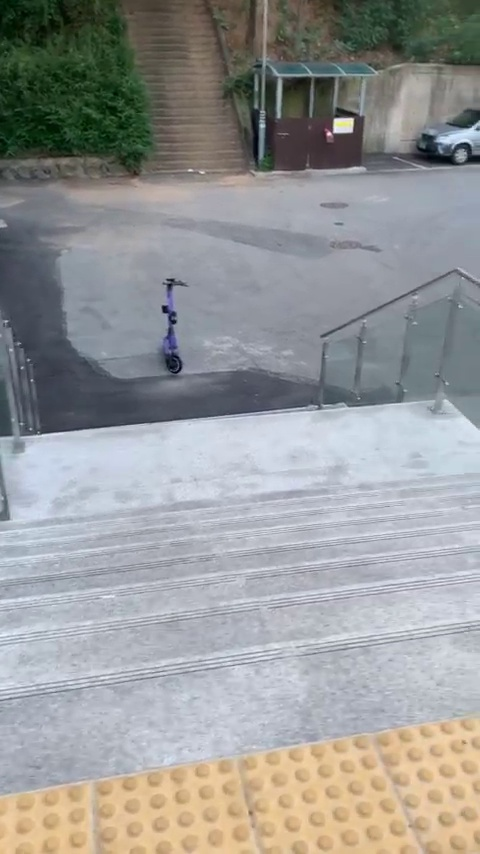beam: (150, 271, 190, 382)
